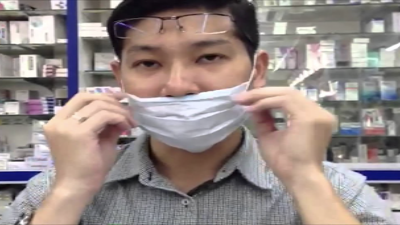mask_weared_incorrect: (116, 37, 252, 154)
